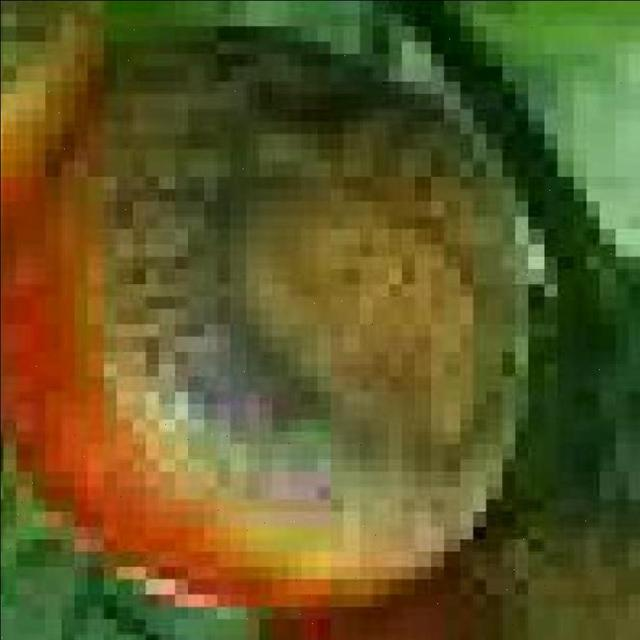Blossom End Rot Fruit: (71, 31, 373, 394)
